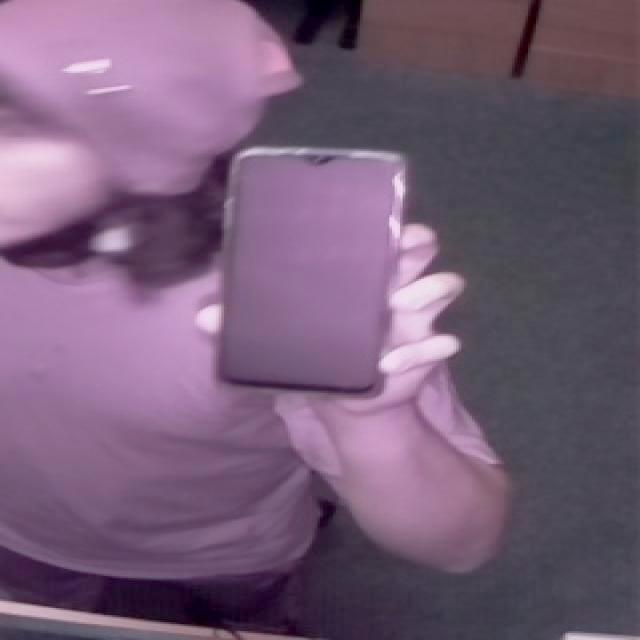phone: (192, 132, 420, 402)
